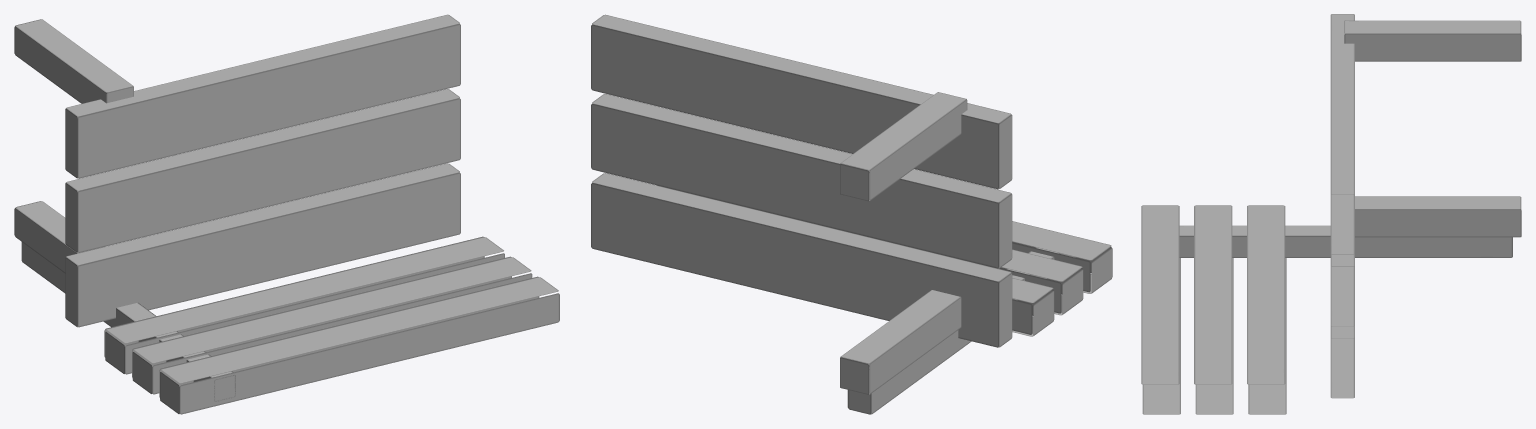
The model's file is pz_benche_seating_indoor_02_sturdy_0_0.obj.
3 renders of one model, left to right at view 1: azimuth 30°, elevation 25°; view 2: azimuth 150°, elevation 25°; view 3: azimuth 270°, elevation 25°, orthographic. The views are drawn at different scales.
Size of the model in its own units: 0.975 by 0.575 by 0.8638.
1 material, 1 textured.
